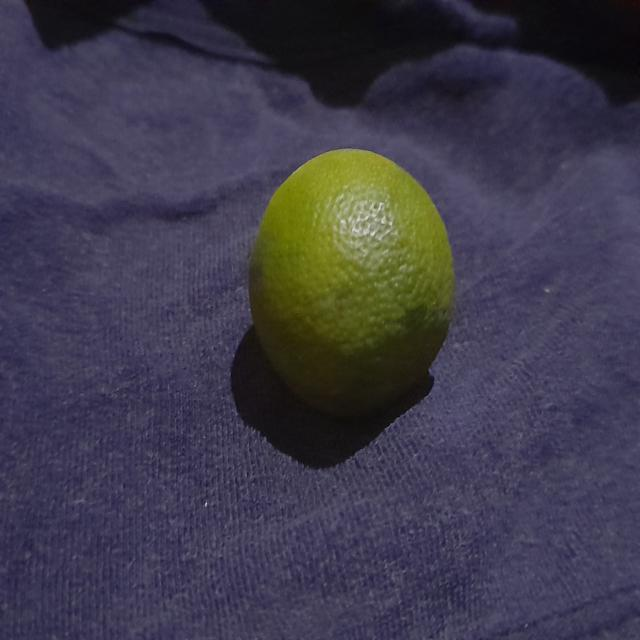heathy: (244, 135, 459, 421)
